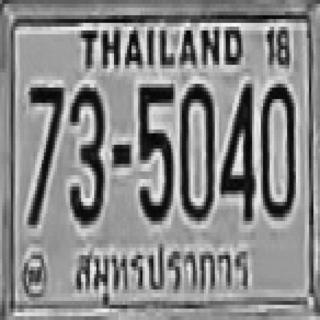N00: (260, 80, 295, 217), (180, 80, 213, 217)
N03: (68, 84, 103, 221)
N04: (219, 80, 254, 217)
N05: (137, 80, 172, 221)
N07: (26, 84, 61, 225)
P57: (66, 234, 258, 313)
